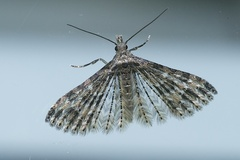Alucitidae: (41, 9, 220, 135)
moth: (43, 11, 222, 137)
